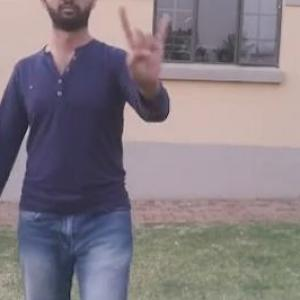takeoff-hand: (112, 0, 177, 95)
